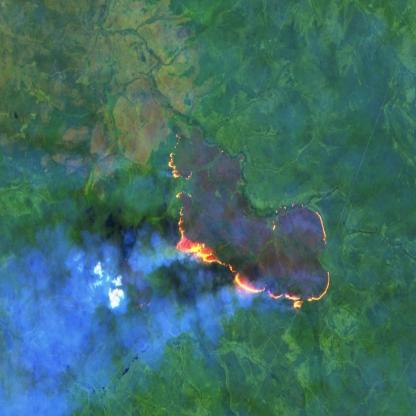fire: (160, 148, 333, 312)
